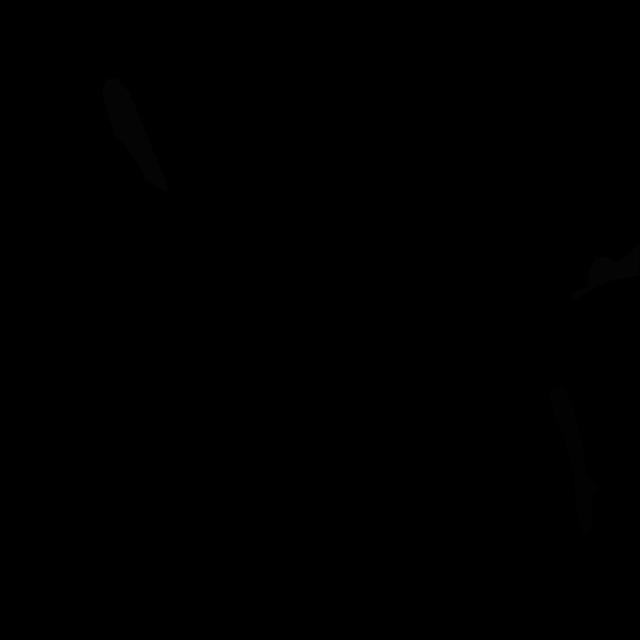cardboard: (548, 385, 598, 534)
soft_plastic: (102, 78, 168, 193), (570, 243, 640, 301)
